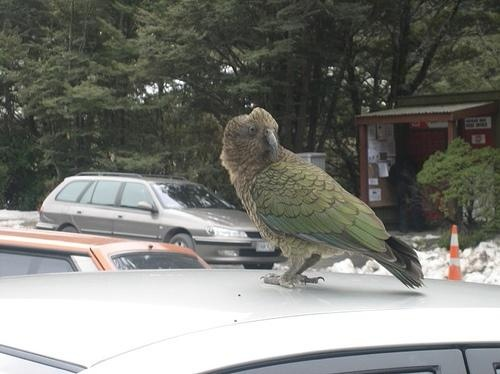bird: (214, 103, 429, 299)
car: (1, 268, 500, 372), (36, 172, 290, 271), (2, 230, 206, 281)
